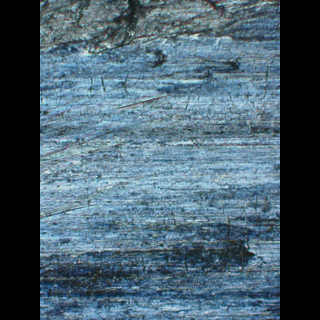d: (40, 0, 277, 50)
